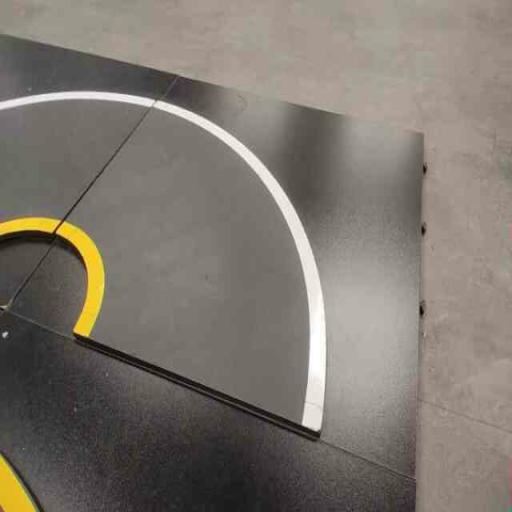left: (9, 80, 400, 445)
